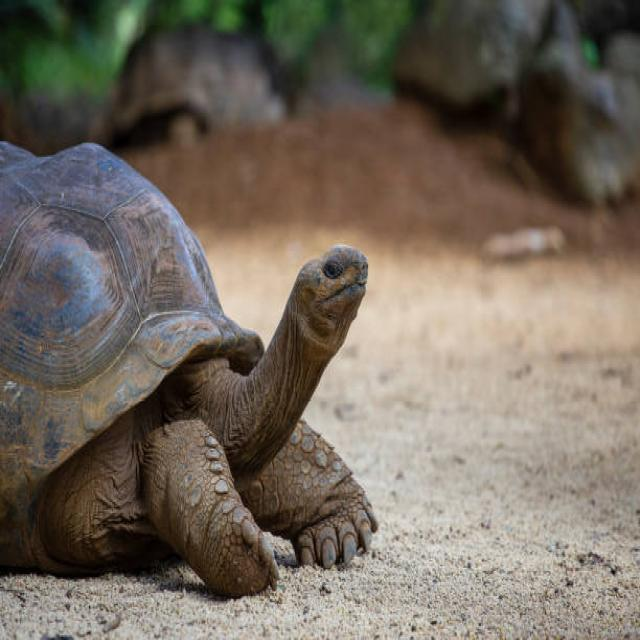tortoise: (0, 125, 255, 418), (138, 403, 285, 611), (256, 224, 374, 444), (255, 398, 382, 578)
